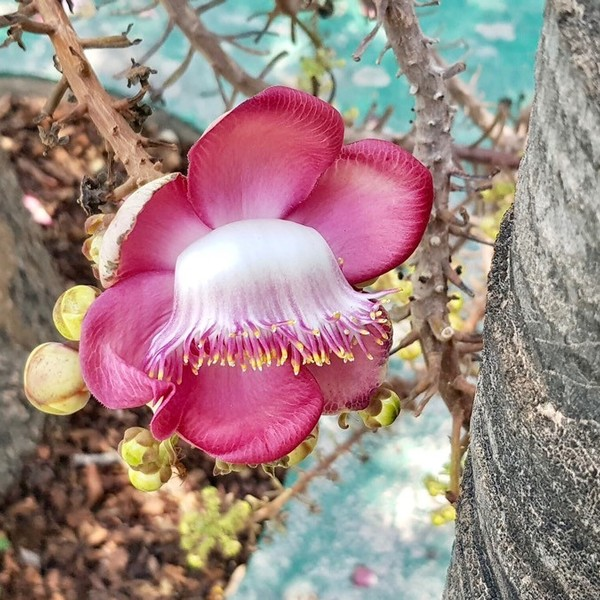obstacle: (55, 61, 415, 488)
